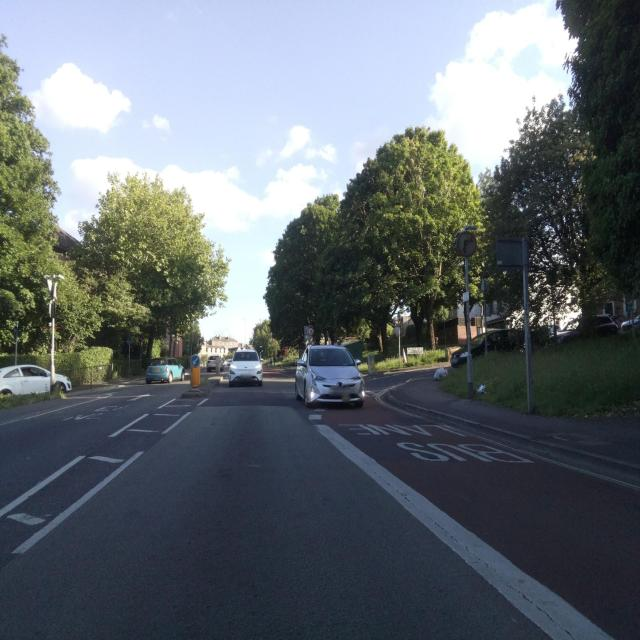car: (294, 343, 365, 409), (449, 328, 522, 368), (0, 363, 74, 399), (559, 312, 618, 341), (228, 348, 263, 387), (145, 356, 184, 383), (620, 314, 640, 330), (206, 354, 220, 372), (222, 358, 232, 372)
